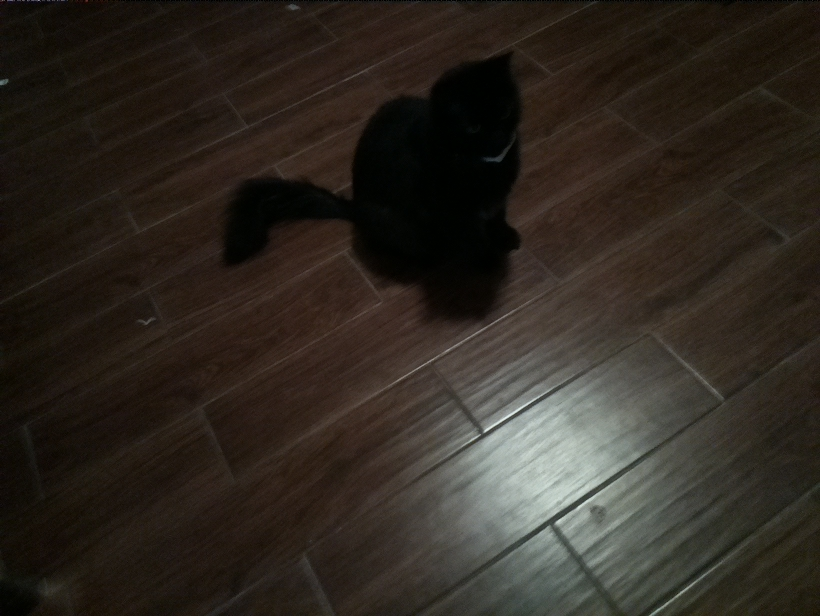cat: (217, 51, 537, 318)
